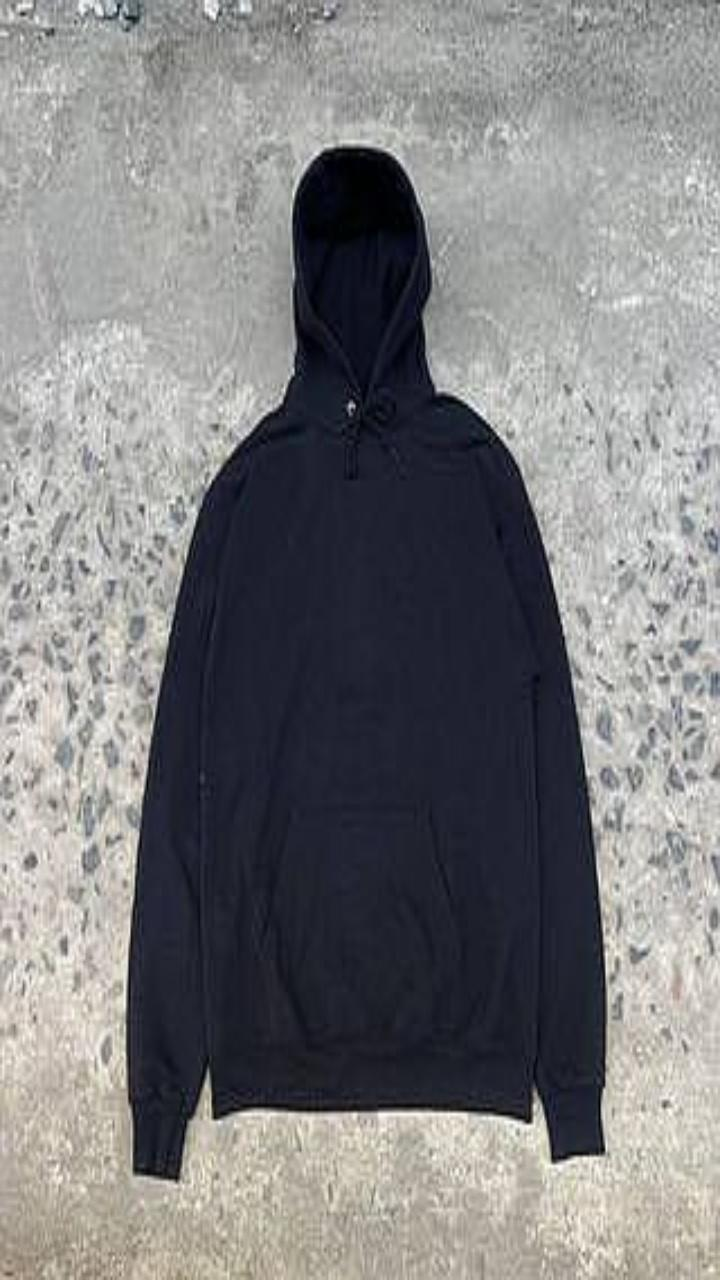Hoodie: (127, 145, 605, 1178)
